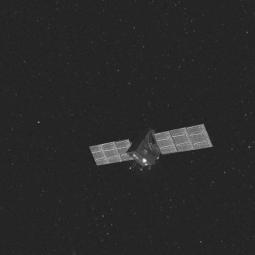smart_1: (78, 119, 227, 173)
